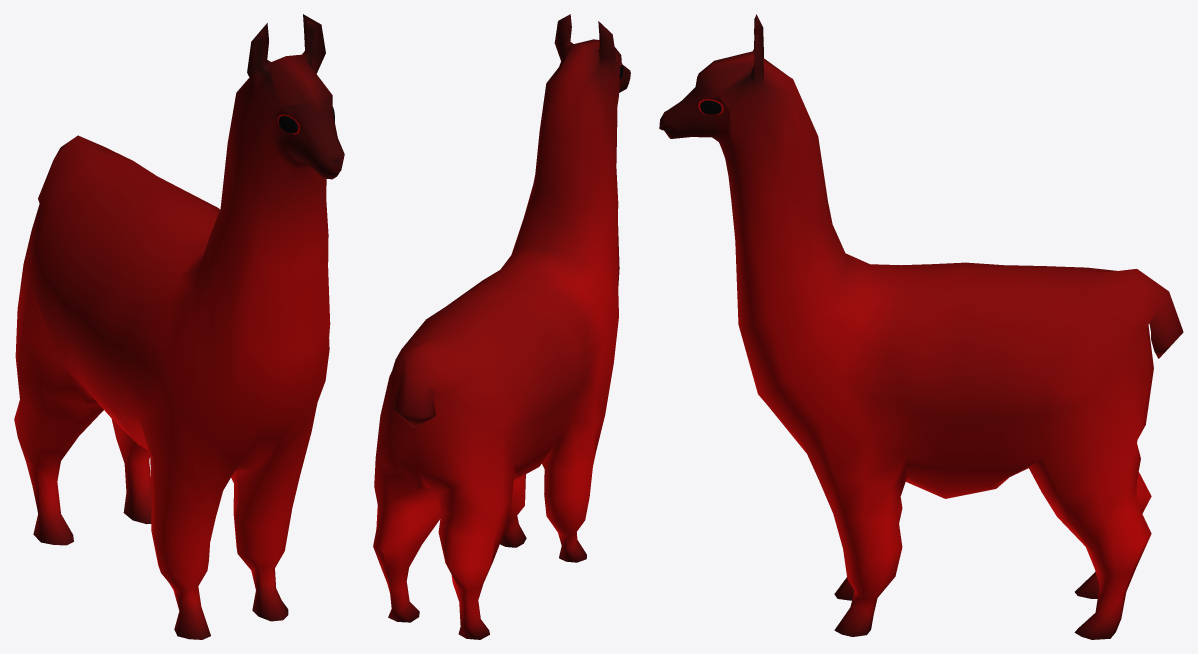
Rendered from lama_var_02.fbx.
3 views of the same model, side by side, from view 1: azimuth 30°, elevation 25°; view 2: azimuth 150°, elevation 25°; view 3: azimuth 270°, elevation 25° (orthographic). The views are drawn at different scales.
Visible parts, largest first — view 1: lama_var_02; view 2: lama_var_02; view 3: lama_var_02.
Boxes of the visible parts, bbox=[...] form: lama_var_02: bbox=[14, 14, 344, 639]; lama_var_02: bbox=[373, 14, 630, 639]; lama_var_02: bbox=[659, 14, 1183, 639].
Bounding box in the file's own units: 683 × 1906 × 2368.
